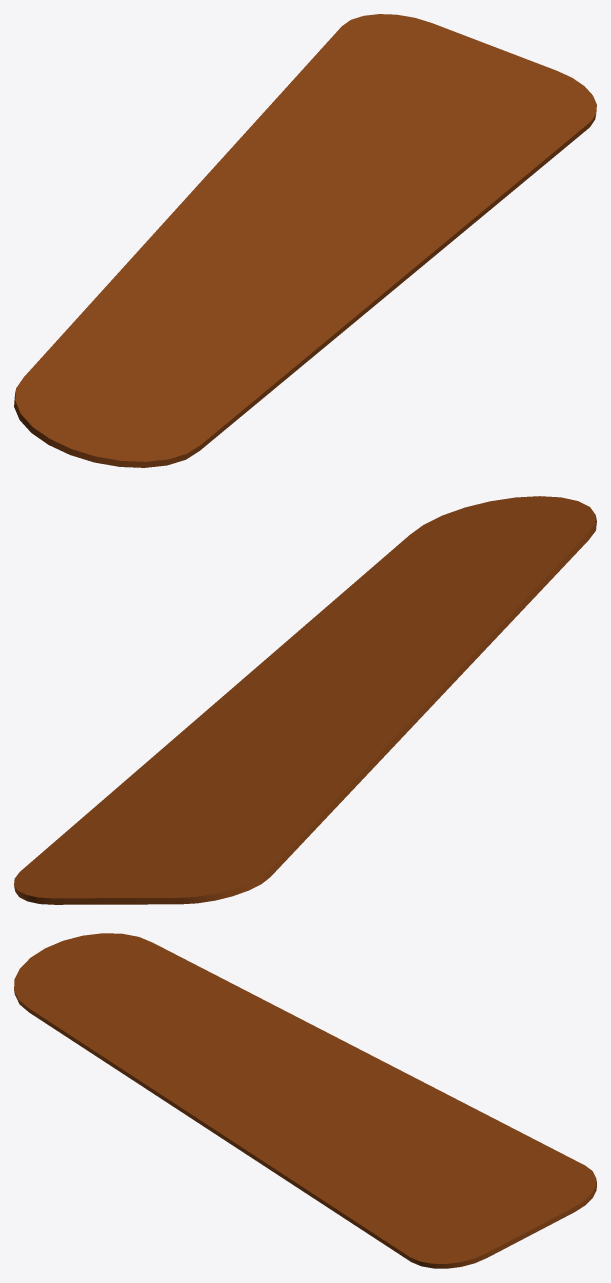
The model's file is original-2.obj.
3 views of the same model, one above another, from view 1: azimuth 30°, elevation 25°; view 2: azimuth 210°, elevation 25°; view 3: azimuth 270°, elevation 25° (orthographic). The views are drawn at different scales.
Visible parts, largest first — view 1: Group2/mesh10/mesh10-geometry#mesh10-geometry; view 2: Group2/mesh10/mesh10-geometry#mesh10-geometry; view 3: Group2/mesh10/mesh10-geometry#mesh10-geometry.
Part boxes in pixels (x1,y1,x2,y2): Group2/mesh10/mesh10-geometry#mesh10-geometry: (14,14,596,467); Group2/mesh10/mesh10-geometry#mesh10-geometry: (14,496,596,904); Group2/mesh10/mesh10-geometry#mesh10-geometry: (14,933,596,1268).
Bounding box in the file's own units: 0.7599 × 0.0499 × 0.6122.
